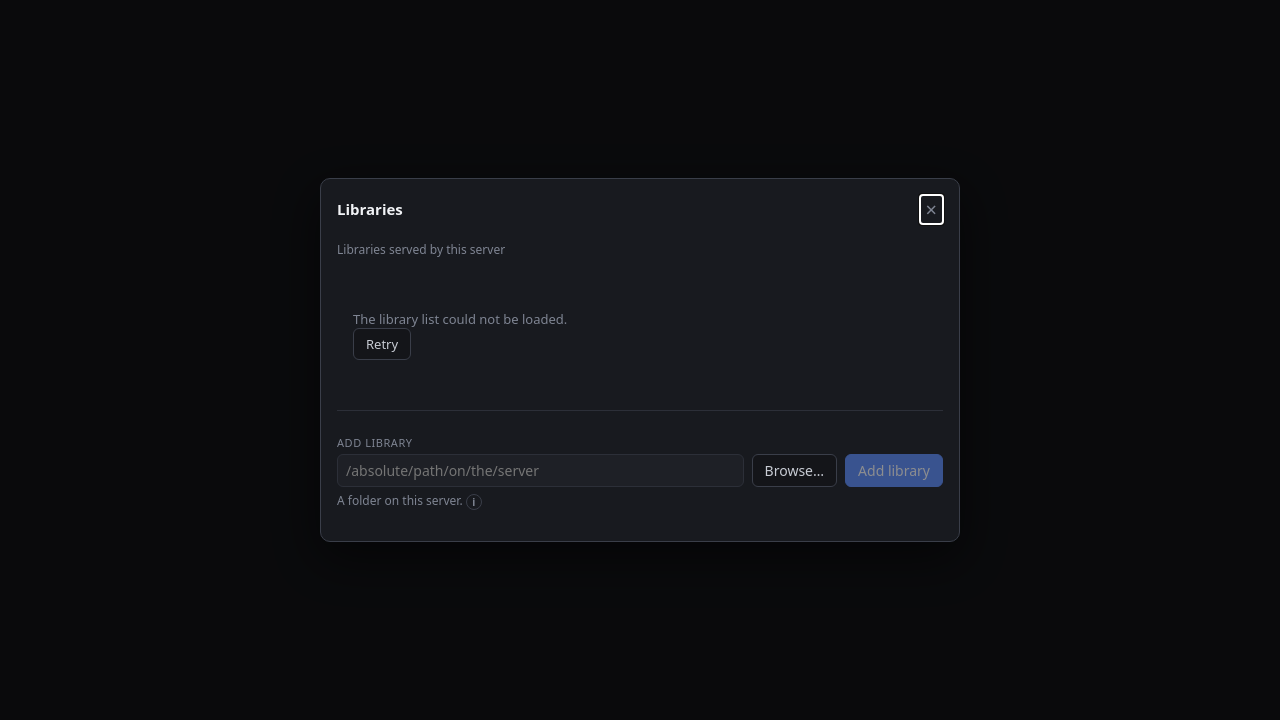
an initial library-list failure is explicit and retryable
Expected: the text "The library list could not be loaded." is shown, x1=353 y1=310 x2=567 y2=328
In the dropdown named "Library path": (540, 470) x1=337 y1=454 x2=744 y2=487, type "/synthetic/new"
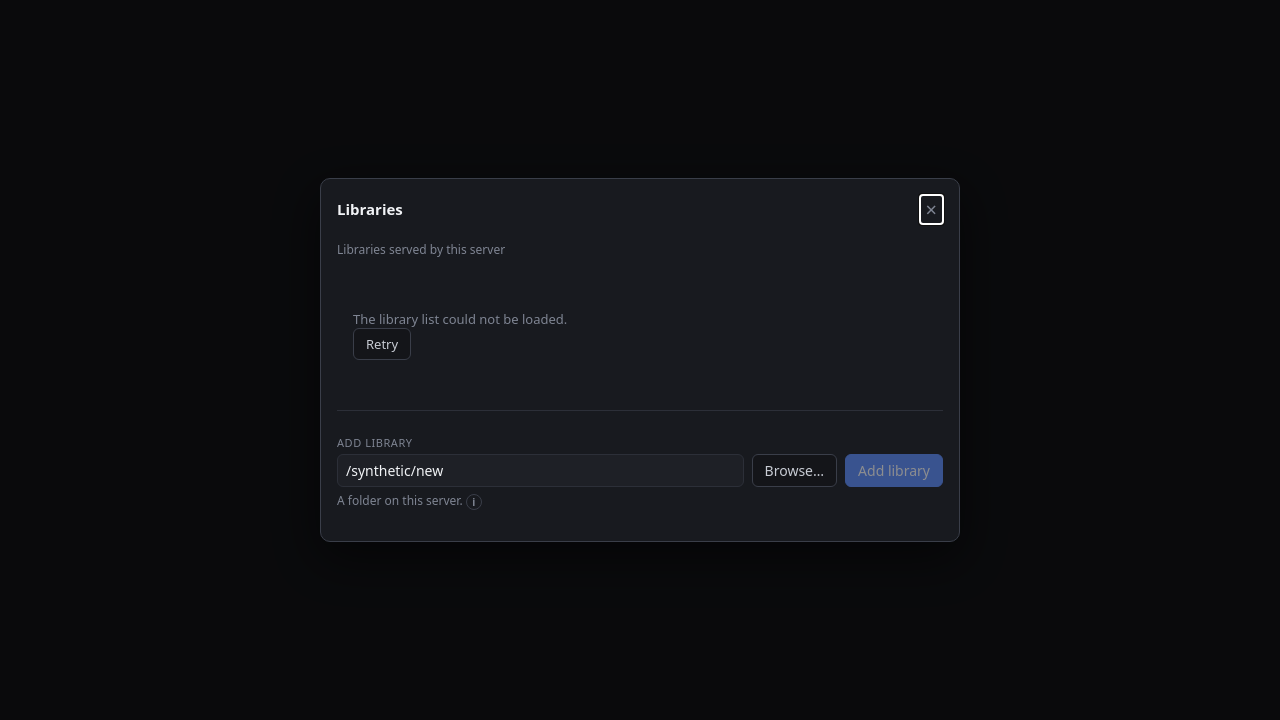
Expected: the button "Add library" is disabled, x1=845 y1=454 x2=943 y2=487
Expected: the button "Browse…" is enabled, x1=752 y1=454 x2=837 y2=487
Click the button "Retry": (382, 344) x1=353 y1=328 x2=411 y2=360
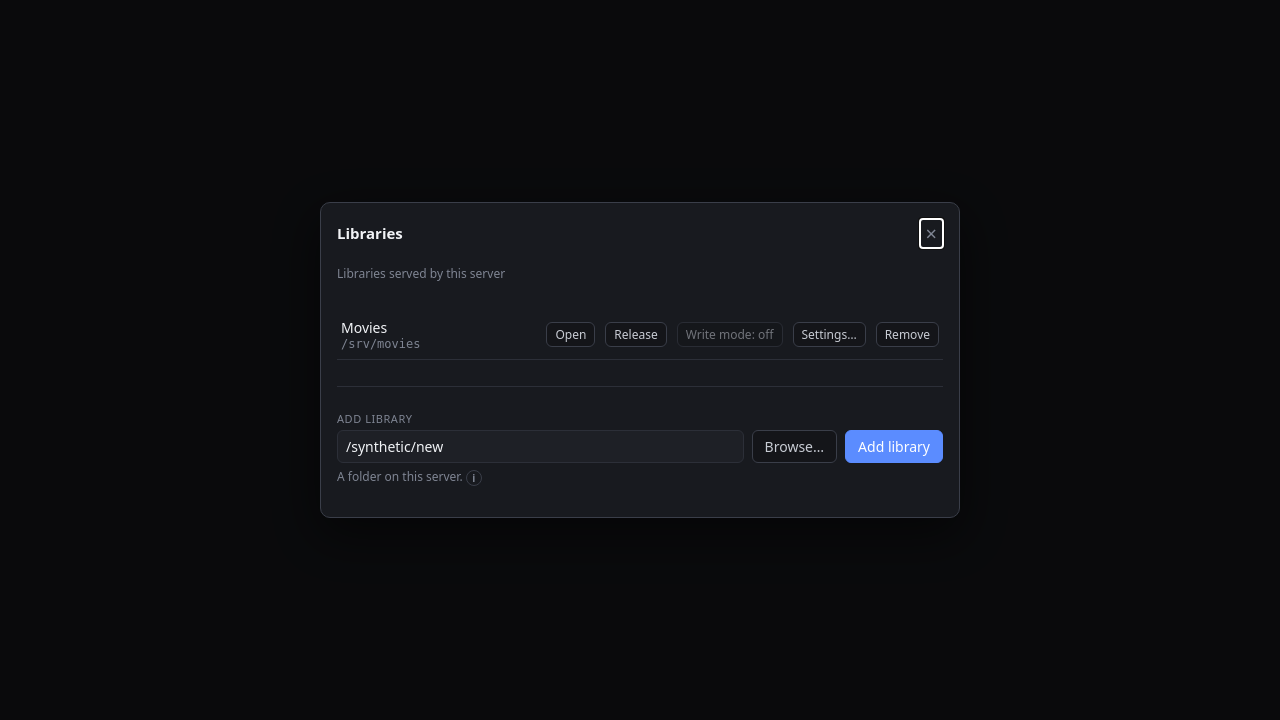
Expected: the text "Movies" is shown, x1=341 y1=318 x2=387 y2=337
Expected: the text "The library list could not be loaded." is gone
